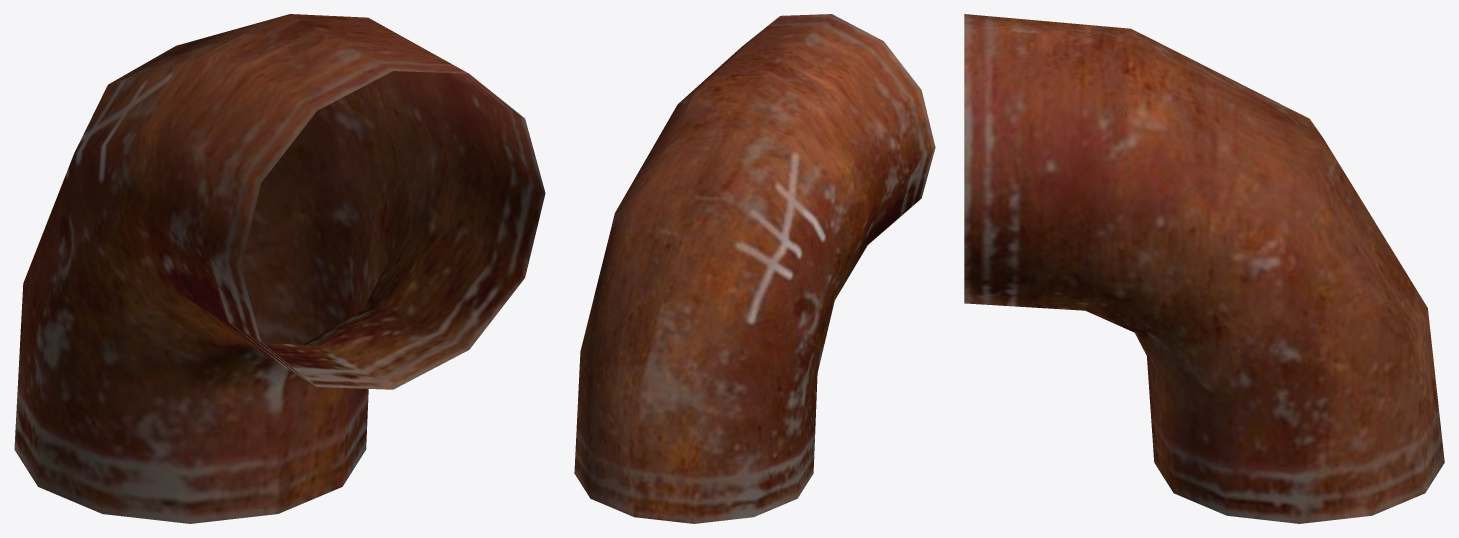
The model's file is stylized_pipe_08.glb.
3 views of the same model, side by side, from view 1: azimuth 30°, elevation 25°; view 2: azimuth 150°, elevation 25°; view 3: azimuth 270°, elevation 25° (orthographic). The views are drawn at different scales.
Visible parts, largest first — view 1: stylized_pipe_08; view 2: stylized_pipe_08; view 3: stylized_pipe_08.
Part boxes in pixels (x1,y1,x2,y2): stylized_pipe_08: (14, 14, 545, 523); stylized_pipe_08: (574, 14, 935, 523); stylized_pipe_08: (964, 14, 1444, 523).
Size of what is drawn, in the model's own units: 0.0832 by 0.1376 by 0.1376.
Materials: 1 (1 with a texture image).
